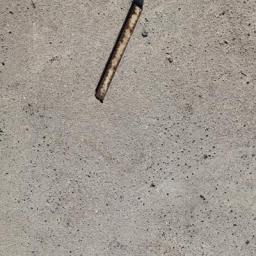FOD: (95, 1, 148, 108)
